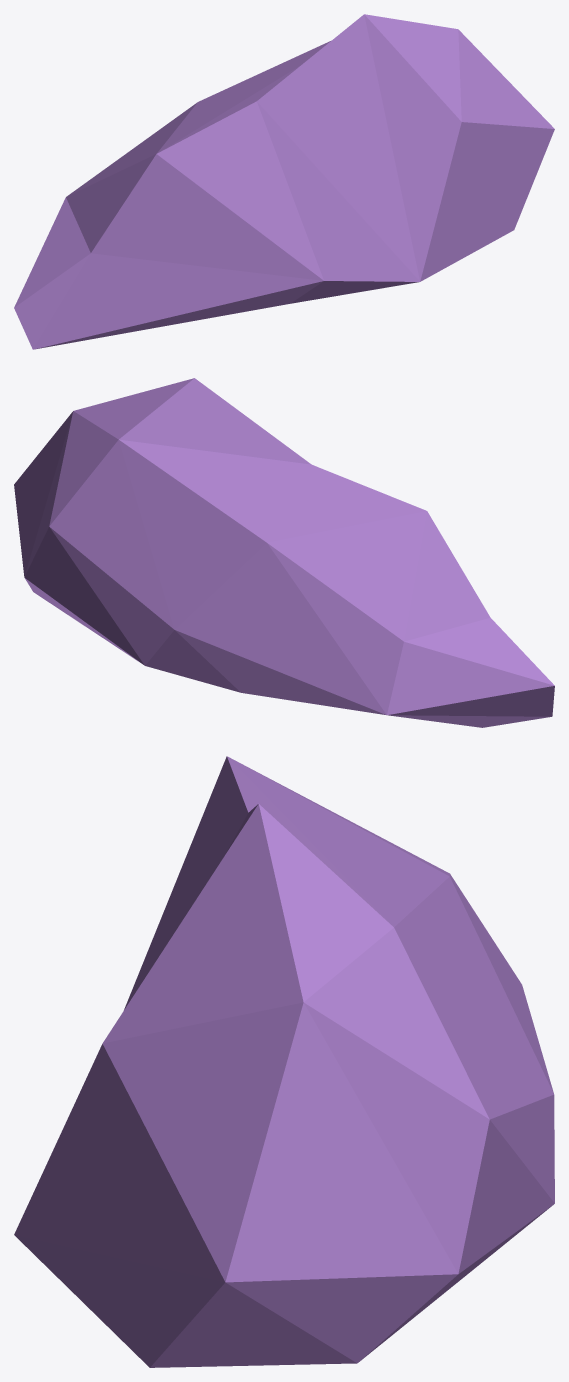
Rendered from rock3.fbx.
3 renders of one model, top to bottom at view 1: azimuth 30°, elevation 25°; view 2: azimuth 150°, elevation 25°; view 3: azimuth 270°, elevation 25°, orthographic. The views are drawn at different scales.
Parts seen in each view (by area): view 1: rock2; view 2: rock2; view 3: rock2.
Part boxes in pixels (left/top/right/bottom): rock2: left=14, top=14, right=554, bottom=349; rock2: left=14, top=378, right=554, bottom=727; rock2: left=14, top=756, right=554, bottom=1367.
Bounding box in the file's own units: 377 × 178 × 168.
